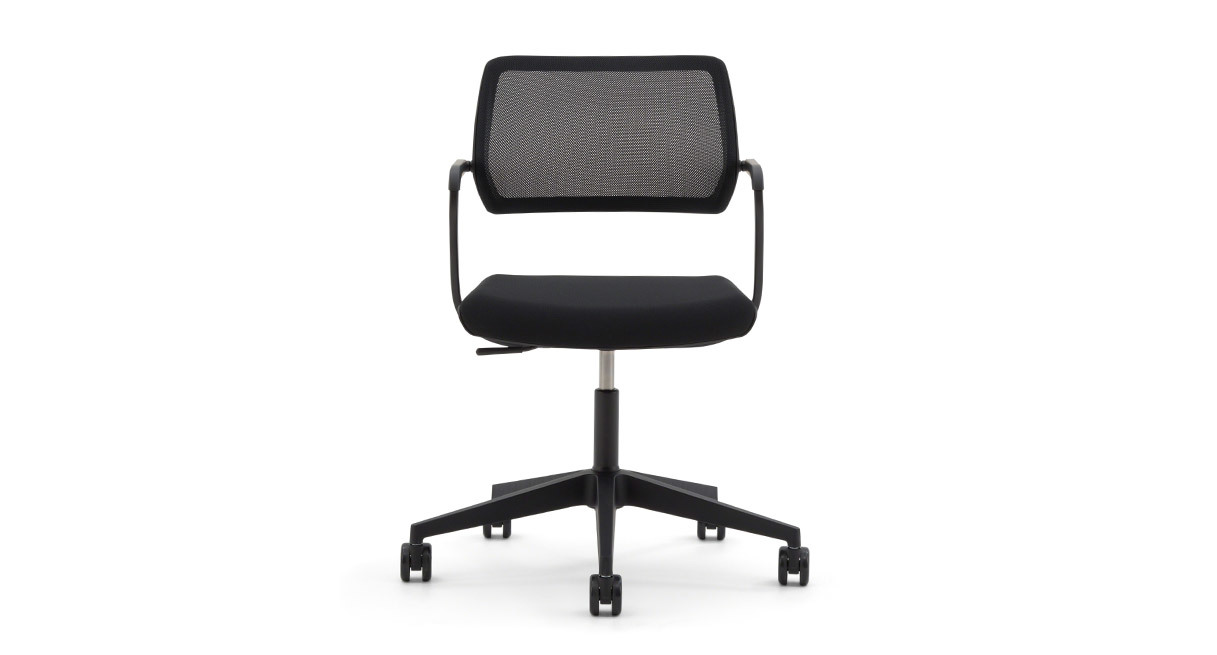chairs: (393, 48, 823, 619)
